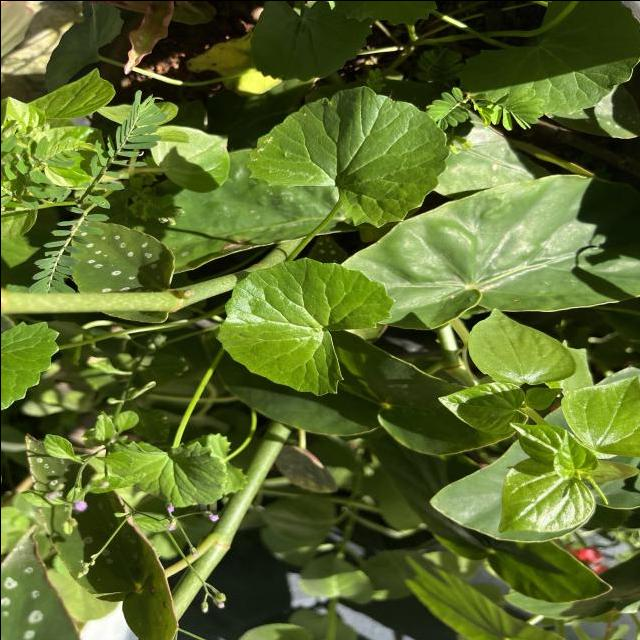Centella asiatica: (242, 80, 452, 232), (210, 253, 398, 399), (454, 0, 640, 120)
